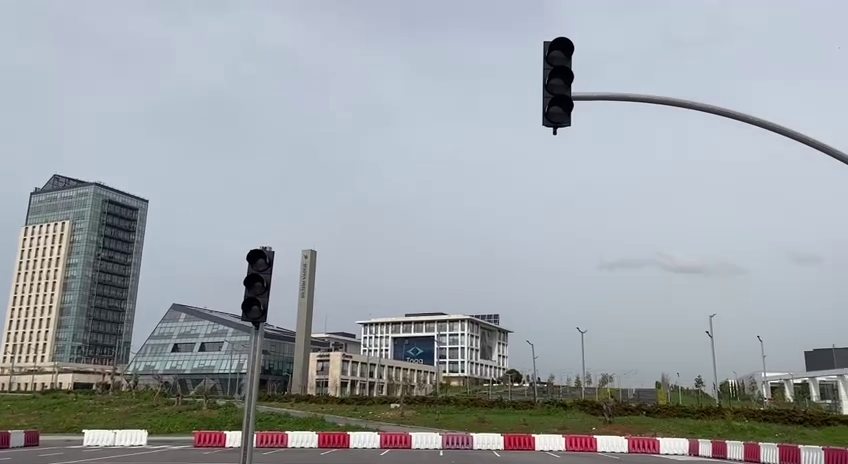trafficLight: (536, 33, 577, 138), (237, 243, 278, 326)
